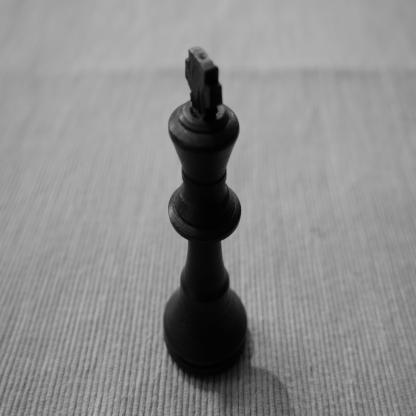black-king: (162, 45, 248, 381)
